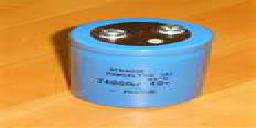Electrolytic-Capacitor: (68, 13, 219, 112)
